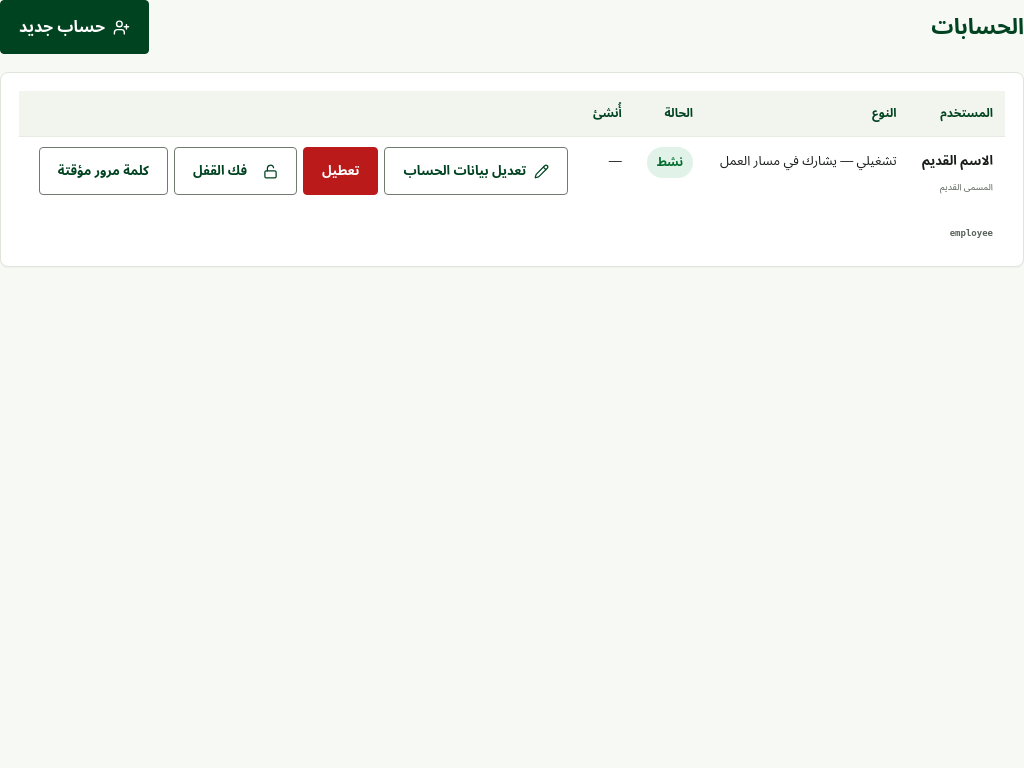
Test: Admin account profile editing › preloads, saves, and immediately renders updated current values
Click the button "تعديل بيانات الحساب": click(476, 171) [384,147,568,195]
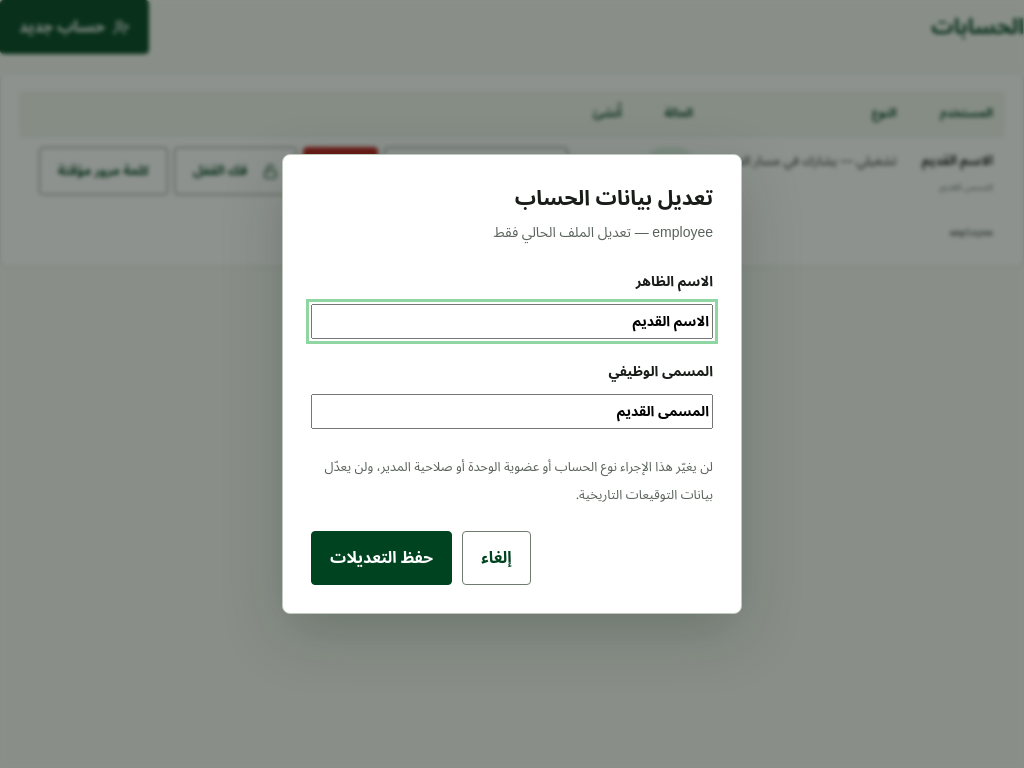
Expected: the field labelled "الاسم الظاهر" holds "الاسم القديم"
Expected: the field labelled "المسمى الوظيفي" holds "المسمى القديم", [311,394,713,429]
Replace the text in the field labelled "الاسم الظاهر" with "الاسم الجديد": (512, 322) [311,304,713,339]
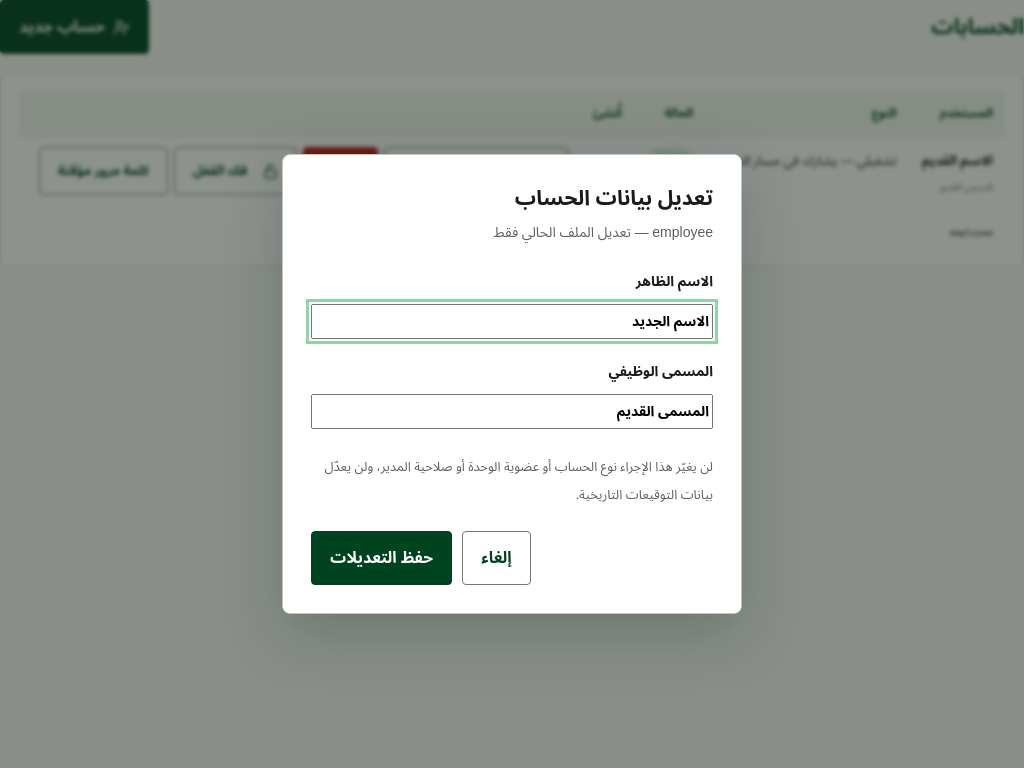
Replace the text in the field labelled "المسمى الوظيفي" with "المسمى الجديد": (512, 412) [311,394,713,429]
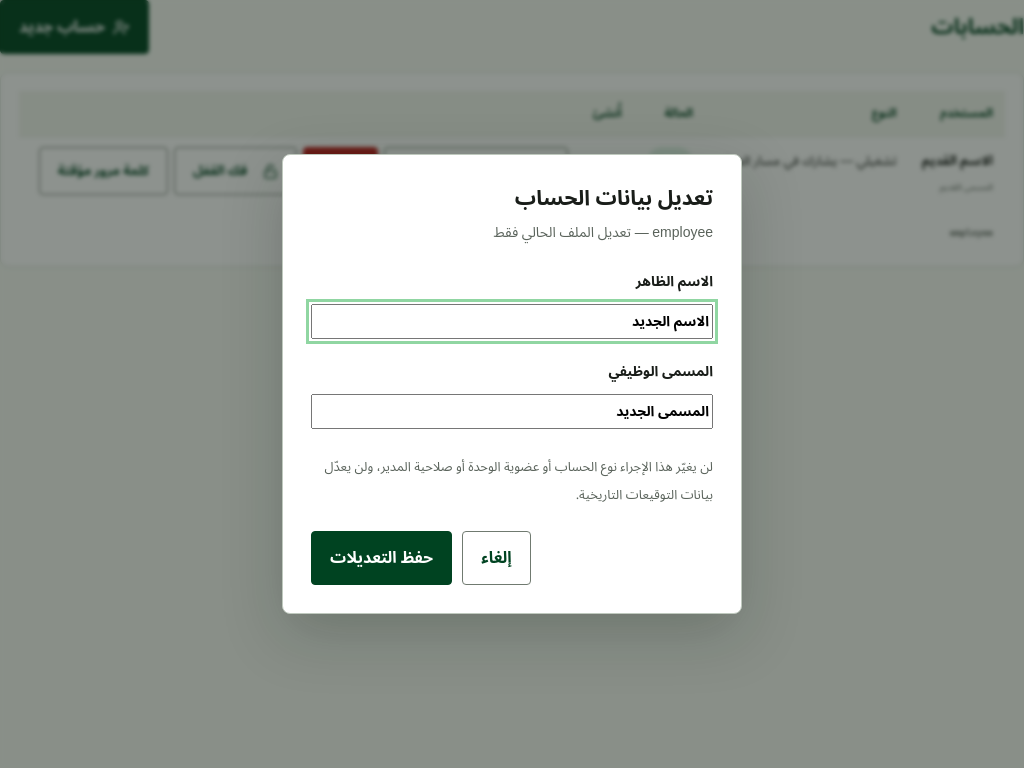
Click the button "حفظ التعديلات": click(382, 558) [311,531,452,585]
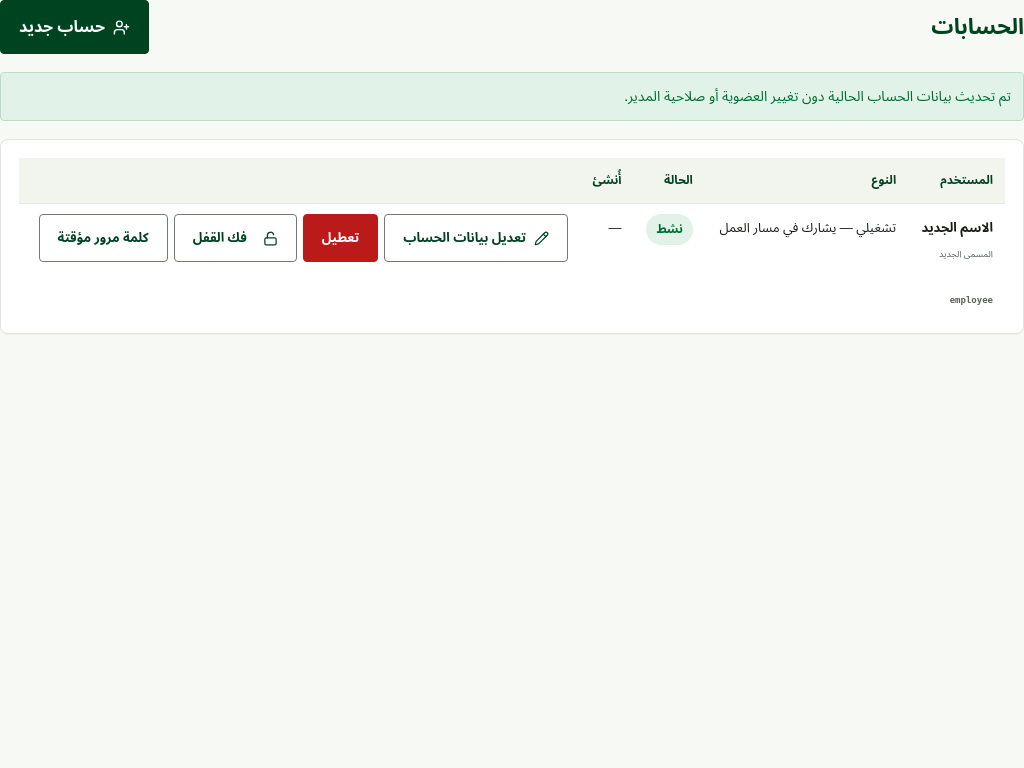
Expected: the text "تشغيلي — يشارك في مسار العمل" is shown, [705,204,908,315]
Expected: the text "الاسم الجديد" is shown, [922,214,993,242]
